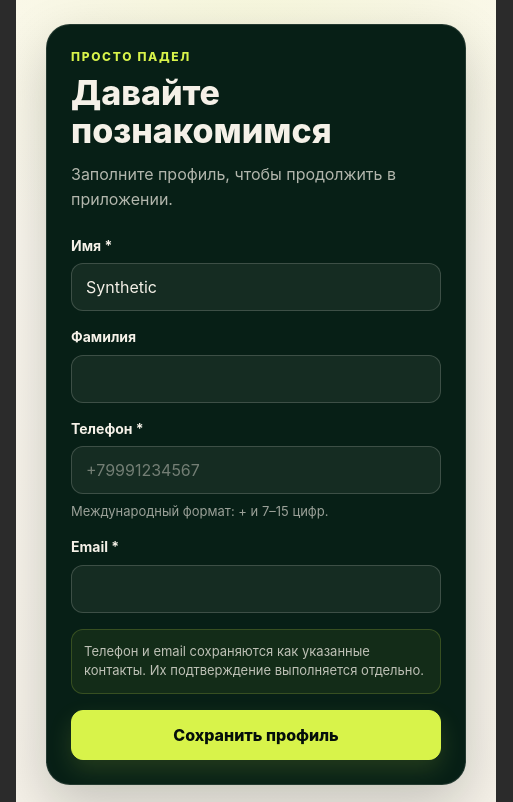
Test: OnboardingProfileGate › shows inline validation and focuses the first invalid field
Clear the field labelled "Имя *". click: (256, 287)
box: top-left (71, 263), bottom-right (441, 311)
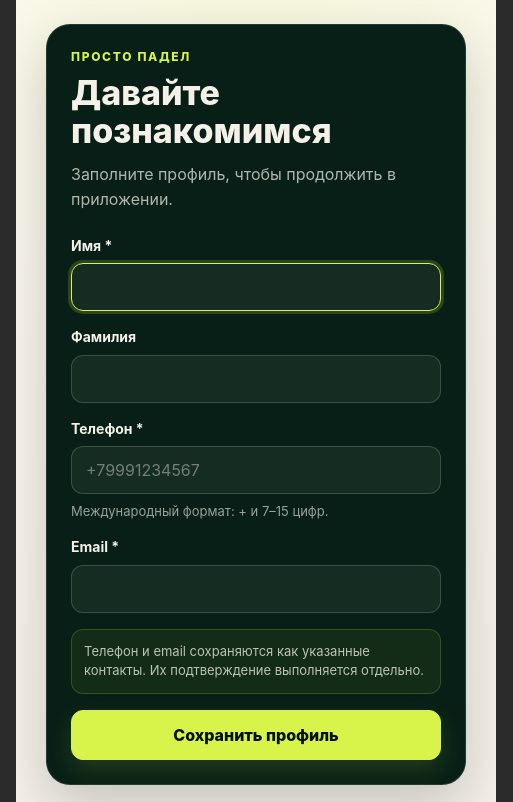
Type "89991234567" into the field labelled "Телефон *". click: (256, 470)
box: top-left (71, 446), bottom-right (441, 494)
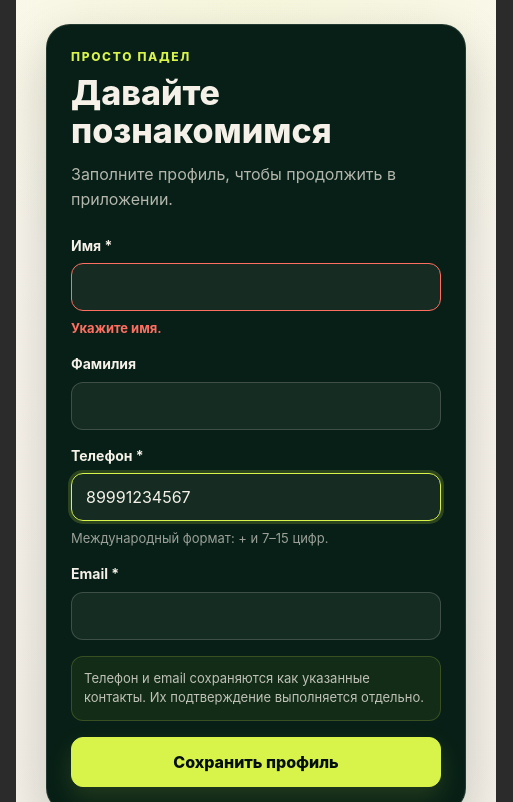
Type "wrong" into the field labelled "Email *". click: (256, 616)
box: top-left (71, 592), bottom-right (441, 640)
(page scrolled)
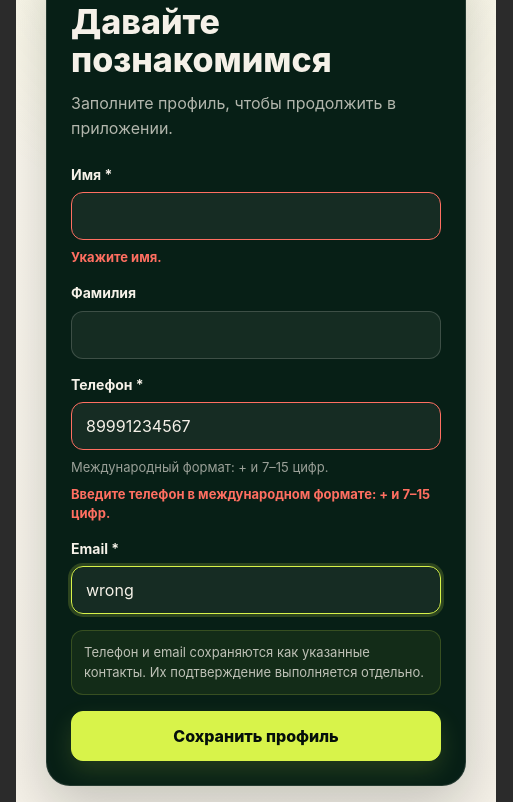
Click the button "Сохранить профиль". click: (256, 736)
box: top-left (71, 711), bottom-right (441, 761)
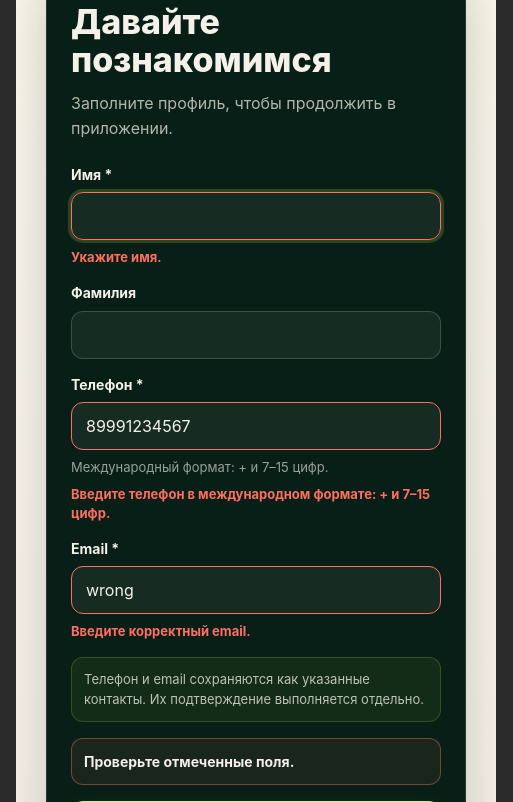
Check: the text "Укажите имя." is shown, box top-left (71, 249), bottom-right (162, 265)
Check: the text "Введите телефон в международном формате: + и 7–15 цифр." is shown, box top-left (71, 485), bottom-right (441, 523)
Check: the text "Введите корректный email." is shown, box top-left (71, 623), bottom-right (251, 639)
